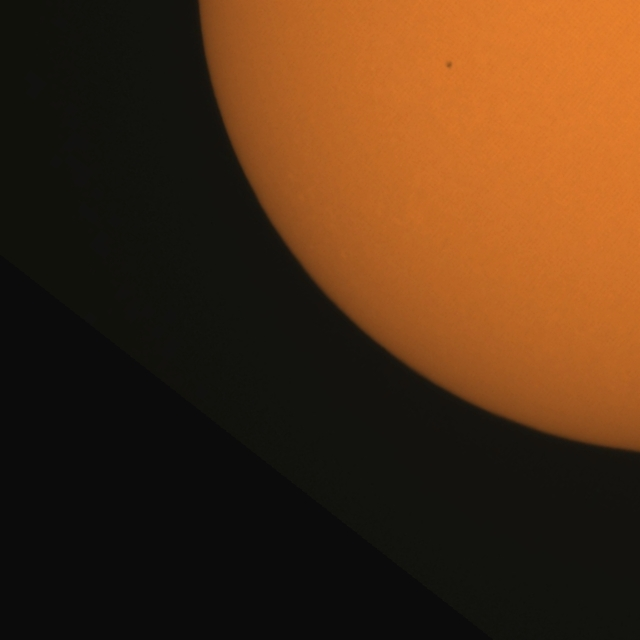sunspot: (444, 60, 454, 70)
